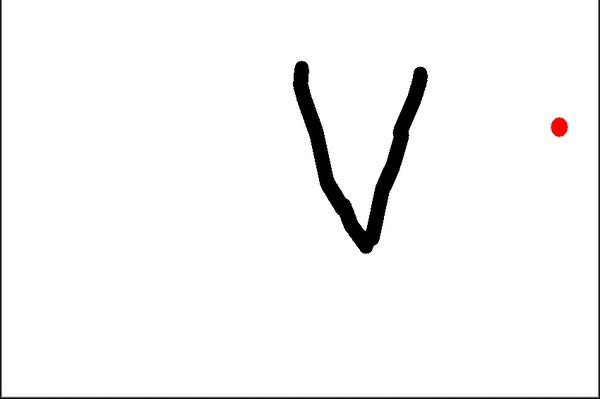V: (287, 51, 427, 256)
